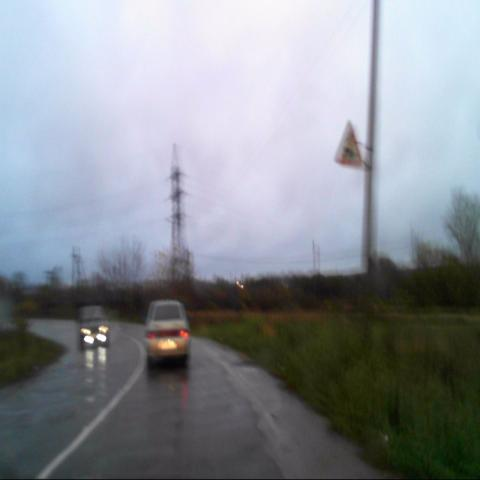1_2: (334, 120, 362, 168)
